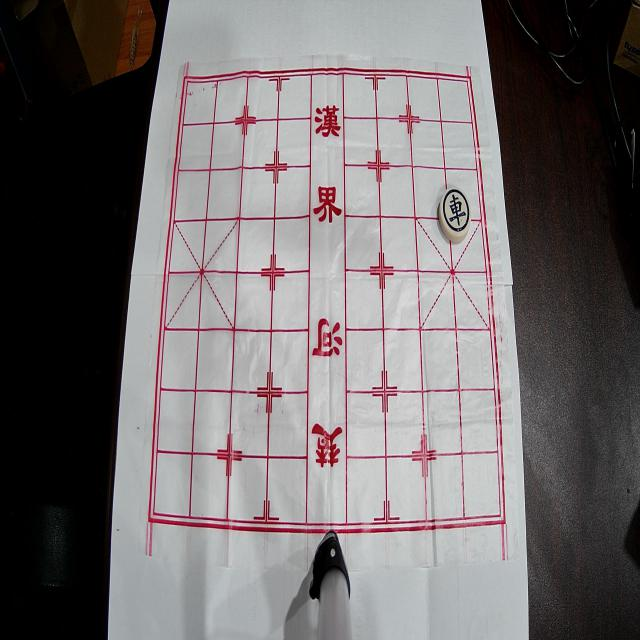black-chariot: (439, 187, 471, 242)
